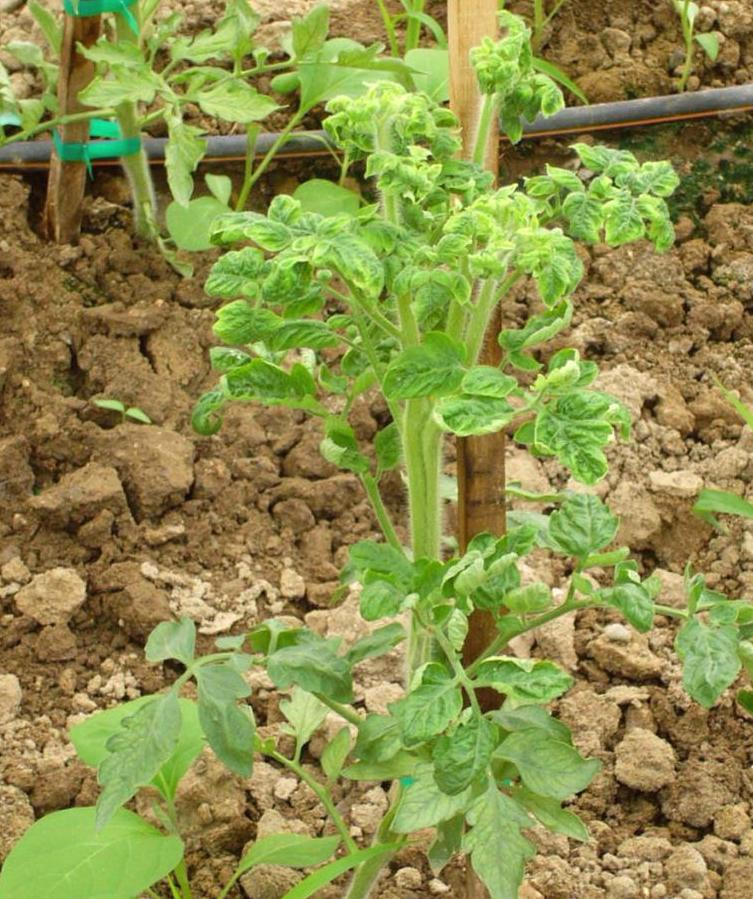Tomato leaf: (86, 694, 194, 820), (460, 762, 538, 899), (538, 392, 630, 484), (370, 332, 484, 404), (196, 656, 270, 762), (674, 612, 752, 712), (548, 488, 616, 572)
